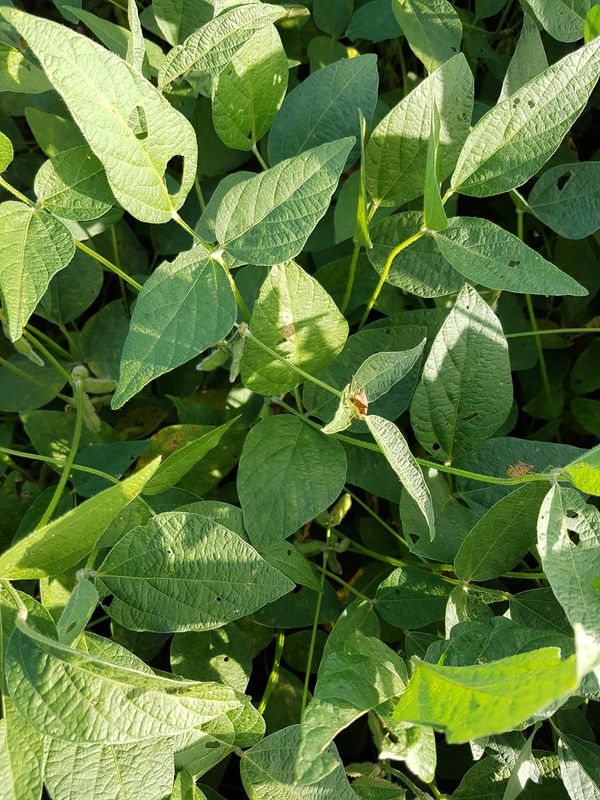Euschistus_heros_adulto: (337, 374, 379, 423), (500, 454, 540, 489)
